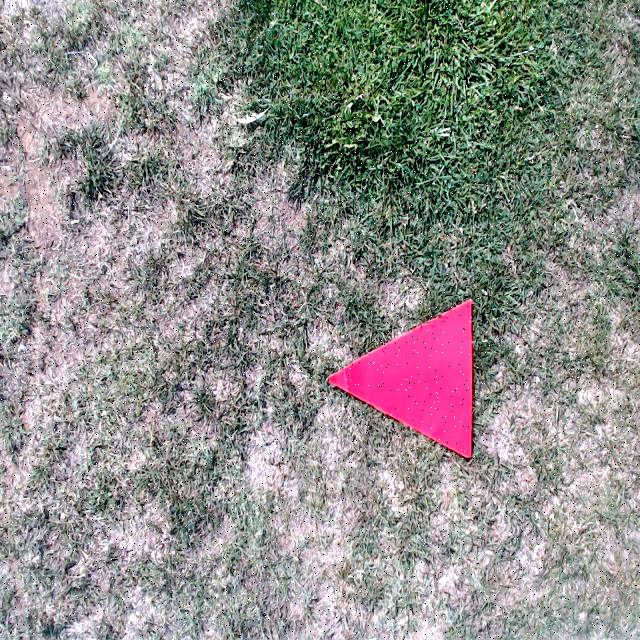red_triangle: (324, 298, 472, 462)
